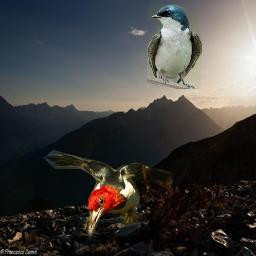Swallow: (147, 4, 202, 89)
Woodpecker: (40, 147, 173, 238)
